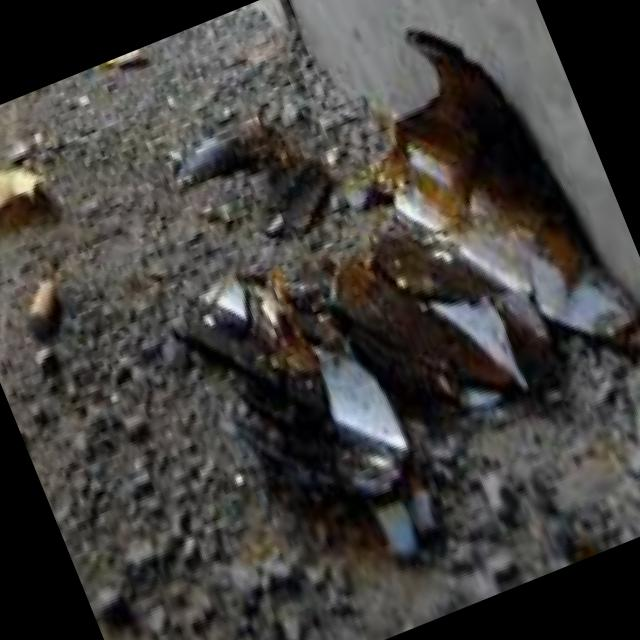PecahanKaca: (101, 0, 640, 609), (0, 146, 62, 253)
